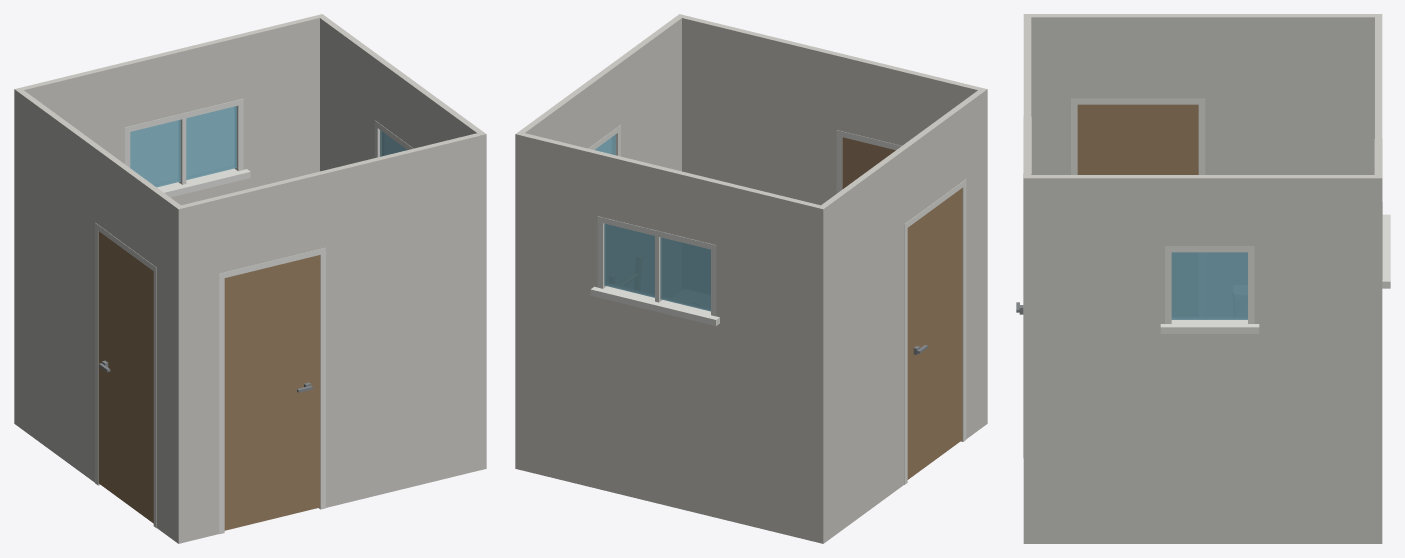
File: scenesmith.glb
3 views of the same model, side by side, from view 1: azimuth 30°, elevation 25°; view 2: azimuth 150°, elevation 25°; view 3: azimuth 270°, elevation 25° (orthographic). The views are drawn at different scales.
Parts seen in each view (by area): view 1: scene_165_bathroom_south_wall, scene_165_bathroom_west_wall, scene_165_bathroom_north_wall, scene_165_bathroom_south_wall Door 0 | wood leaf, scene_165_bathroom_east_wall, scene_165_bathroom_west_wall Door 0 | wood leaf, scene_165_bathroom_north_wall Window 0 | glazing, scene_165_bathroom_south_wall Door 0 | jamb, scene_165_bathroom_north_wall Window 0 | jamb, scene_165_bathroom_west_wall Door 0 | jamb; view 2: scene_165_bathroom_north_wall, scene_165_bathroom_west_wall, scene_165_bathroom_south_wall, scene_165_bathroom_west_wall Door 0 | wood leaf, scene_165_bathroom_east_wall, scene_165_bathroom_north_wall Window 0 | glazing, scene_165_bathroom_north_wall Window 0 | jamb, scene_165_bathroom_west_wall Door 0 | jamb, scene_165_bathroom_south_wall Door 0 | wood leaf, scene_165_bathroom_south_wall Door 0 | jamb; view 3: scene_165_bathroom_east_wall, scene_165_bathroom_west_wall, scene_165_bathroom_west_wall Door 0 | wood leaf, scene_165_bathroom_east_wall Window 0 | glazing, scene_165_bathroom_east_wall Window 0 | jamb, scene_165_bathroom_west_wall Door 0 | jamb, scene_165_bathroom_south_wall, scene_165_bathroom_north_wall, scene_165_bathroom_north_wall Window 0 | jamb.
Boxes of the visible parts, x1=… form: scene_165_bathroom_south_wall: x1=175, y1=133, x2=480, y2=543; scene_165_bathroom_west_wall: x1=14, y1=89, x2=184, y2=543; scene_165_bathroom_north_wall: x1=14, y1=15, x2=319, y2=205; scene_165_bathroom_south_wall Door 0 | wood leaf: x1=224, y1=255, x2=320, y2=530; scene_165_bathroom_east_wall: x1=317, y1=14, x2=486, y2=469; scene_165_bathroom_west_wall Door 0 | wood leaf: x1=98, y1=231, x2=153, y2=523; scene_165_bathroom_north_wall Window 0 | glazing: x1=130, y1=106, x2=236, y2=187; scene_165_bathroom_south_wall Door 0 | jamb: x1=219, y1=247, x2=325, y2=534; scene_165_bathroom_north_wall Window 0 | jamb: x1=125, y1=98, x2=250, y2=197; scene_165_bathroom_west_wall Door 0 | jamb: x1=95, y1=222, x2=156, y2=528; scene_165_bathroom_north_wall: x1=515, y1=133, x2=826, y2=543; scene_165_bathroom_west_wall: x1=821, y1=88, x2=987, y2=543; scene_165_bathroom_south_wall: x1=682, y1=15, x2=987, y2=425; scene_165_bathroom_west_wall Door 0 | wood leaf: x1=907, y1=188, x2=962, y2=479; scene_165_bathroom_east_wall: x1=515, y1=14, x2=684, y2=171; scene_165_bathroom_north_wall Window 0 | glazing: x1=604, y1=223, x2=710, y2=311; scene_165_bathroom_north_wall Window 0 | jamb: x1=590, y1=216, x2=719, y2=325; scene_165_bathroom_west_wall Door 0 | jamb: x1=904, y1=179, x2=966, y2=484; scene_165_bathroom_south_wall Door 0 | wood leaf: x1=842, y1=137, x2=895, y2=189; scene_165_bathroom_south_wall Door 0 | jamb: x1=836, y1=130, x2=901, y2=193; scene_165_bathroom_east_wall: x1=1023, y1=175, x2=1382, y2=543; scene_165_bathroom_west_wall: x1=1023, y1=14, x2=1374, y2=174; scene_165_bathroom_west_wall Door 0 | wood leaf: x1=1077, y1=104, x2=1198, y2=174; scene_165_bathroom_east_wall Window 0 | glazing: x1=1171, y1=252, x2=1247, y2=319; scene_165_bathroom_east_wall Window 0 | jamb: x1=1160, y1=246, x2=1259, y2=333; scene_165_bathroom_west_wall Door 0 | jamb: x1=1071, y1=98, x2=1205, y2=174; scene_165_bathroom_south_wall: x1=1023, y1=17, x2=1031, y2=174; scene_165_bathroom_north_wall: x1=1375, y1=14, x2=1382, y2=174; scene_165_bathroom_north_wall Window 0 | jamb: x1=1374, y1=139, x2=1390, y2=288.
Bounding box in the file's own units: 2.7 × 2.71 × 2.5.
